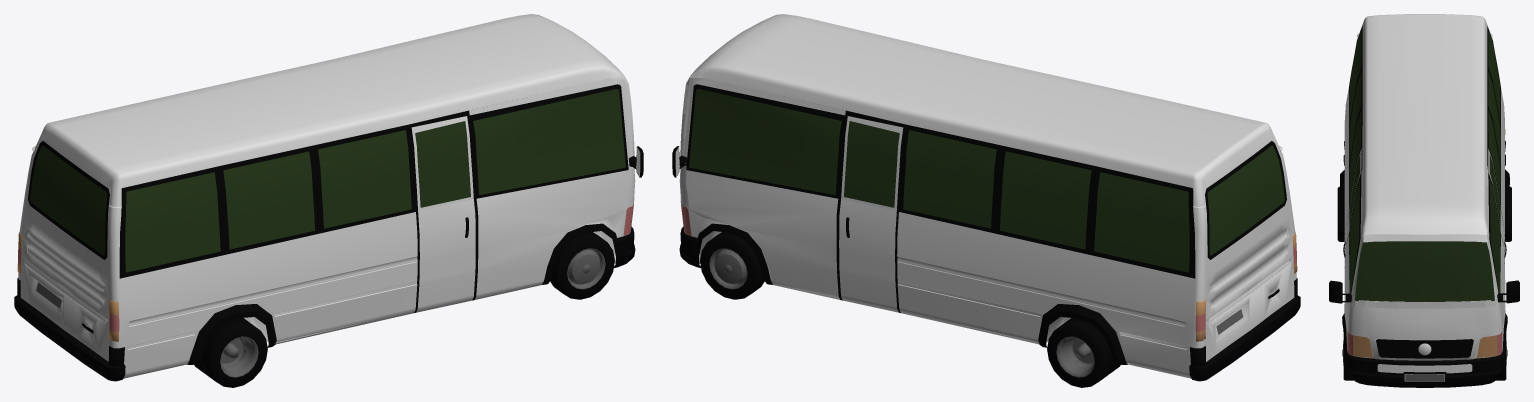
The model's file is car7.glb.
3 renders of one model, left to right at view 1: azimuth 30°, elevation 25°; view 2: azimuth 150°, elevation 25°; view 3: azimuth 270°, elevation 25°, orthographic. The views are drawn at different scales.
Parts seen in each view (by area): view 1: ~??_19_materialGroup_3, ~Material__32_materialGroup_4, obj44~??_21_materialGroup_10, ~??_21_materialGroup_2, ~??_13_materialGroup_5, obj37~_____21_materialGroup_8, obj40~_____21_materialGroup_9, obj0~??_19_materialGroup_0, ~_____21_materialGroup_7; view 2: ~??_19_materialGroup_3, ~Material__32_materialGroup_4, obj44~??_21_materialGroup_10, ~??_21_materialGroup_2, ~??_13_materialGroup_5, obj37~_____21_materialGroup_8, obj40~_____21_materialGroup_9, ~_____21_materialGroup_7; view 3: ~??_19_materialGroup_3, ~Material__32_materialGroup_4, obj44~??_21_materialGroup_10, ~??_21_materialGroup_2, obj0~??_19_materialGroup_0, obj45~??_2_materialGroup_11, obj37~_____21_materialGroup_8, ~??_13_materialGroup_5, obj40~_____21_materialGroup_9, obj46~??_5_materialGroup_12, ~_____21_materialGroup_7.
Part boxes in pixels (x1,y1,x2,y2): ~??_19_materialGroup_3: [18, 14, 640, 378]; ~Material__32_materialGroup_4: [30, 89, 634, 272]; obj44~??_21_materialGroup_10: [14, 110, 643, 381]; ~??_21_materialGroup_2: [119, 84, 628, 278]; ~??_13_materialGroup_5: [36, 248, 605, 377]; obj37~_____21_materialGroup_8: [194, 318, 267, 387]; obj40~_____21_materialGroup_9: [550, 232, 614, 299]; obj0~??_19_materialGroup_0: [469, 78, 619, 115]; ~_____21_materialGroup_7: [542, 223, 616, 284]; ~??_19_materialGroup_3: [675, 14, 1296, 378]; ~Material__32_materialGroup_4: [680, 89, 1284, 272]; obj44~??_21_materialGroup_10: [672, 110, 1300, 381]; ~??_21_materialGroup_2: [686, 84, 1195, 278]; ~??_13_materialGroup_5: [709, 248, 1243, 377]; obj37~_____21_materialGroup_8: [1047, 318, 1120, 387]; obj40~_____21_materialGroup_9: [700, 232, 764, 299]; ~_____21_materialGroup_7: [698, 223, 772, 284]; ~??_19_materialGroup_3: [1344, 14, 1505, 381]; ~Material__32_materialGroup_4: [1349, 30, 1500, 301]; obj44~??_21_materialGroup_10: [1329, 141, 1519, 387]; ~??_21_materialGroup_2: [1349, 26, 1500, 294]; obj0~??_19_materialGroup_0: [1360, 169, 1486, 242]; obj45~??_2_materialGroup_11: [1353, 335, 1496, 357]; obj37~_____21_materialGroup_8: [1337, 186, 1511, 241]; ~??_13_materialGroup_5: [1342, 340, 1507, 381]; obj40~_____21_materialGroup_9: [1343, 337, 1506, 380]; obj46~??_5_materialGroup_12: [1347, 332, 1502, 355]; ~_____21_materialGroup_7: [1342, 313, 1507, 348].
Bounding box in the file's own units: 8.12 × 3.23 × 3.03.
